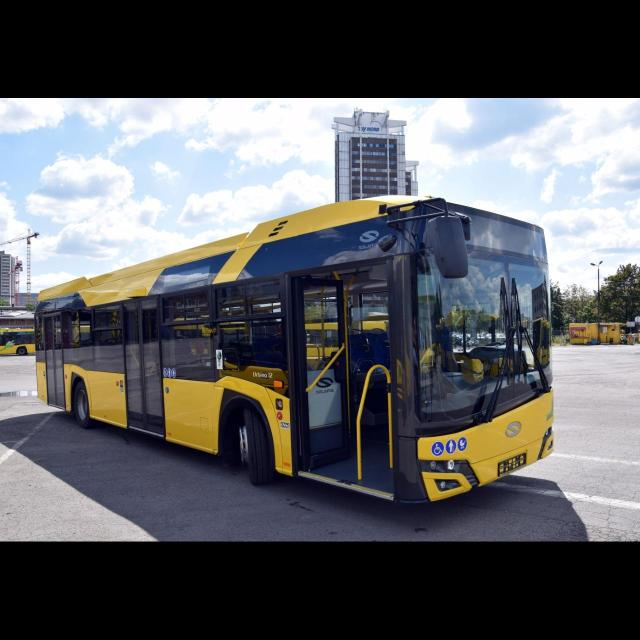Bus: (34, 194, 557, 503)
